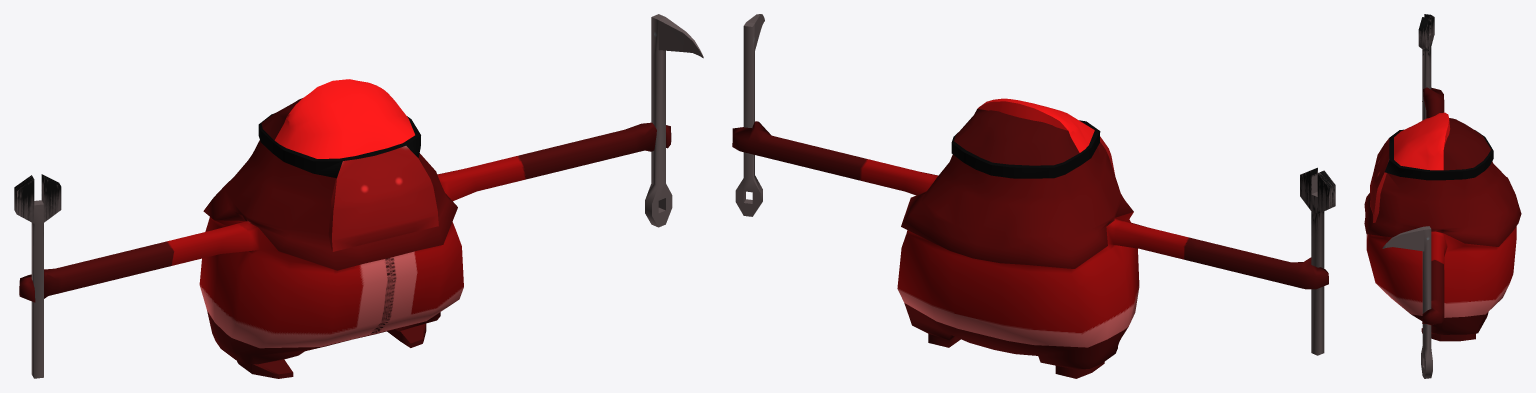
Rendered from atizadorbueno.FBX.
3 renders of one model, left to right at view 1: azimuth 30°, elevation 25°; view 2: azimuth 150°, elevation 25°; view 3: azimuth 270°, elevation 25°, orthographic. The views are drawn at different scales.
Visible parts, largest first — view 1: atizador; view 2: atizador; view 3: atizador.
Part boxes in pixels (x1,y1,x2,y2): atizador: (14, 14, 703, 378); atizador: (732, 14, 1335, 378); atizador: (1364, 14, 1521, 378).
Bounding box in the file's own units: 10.85 × 4.23 × 3.13.
